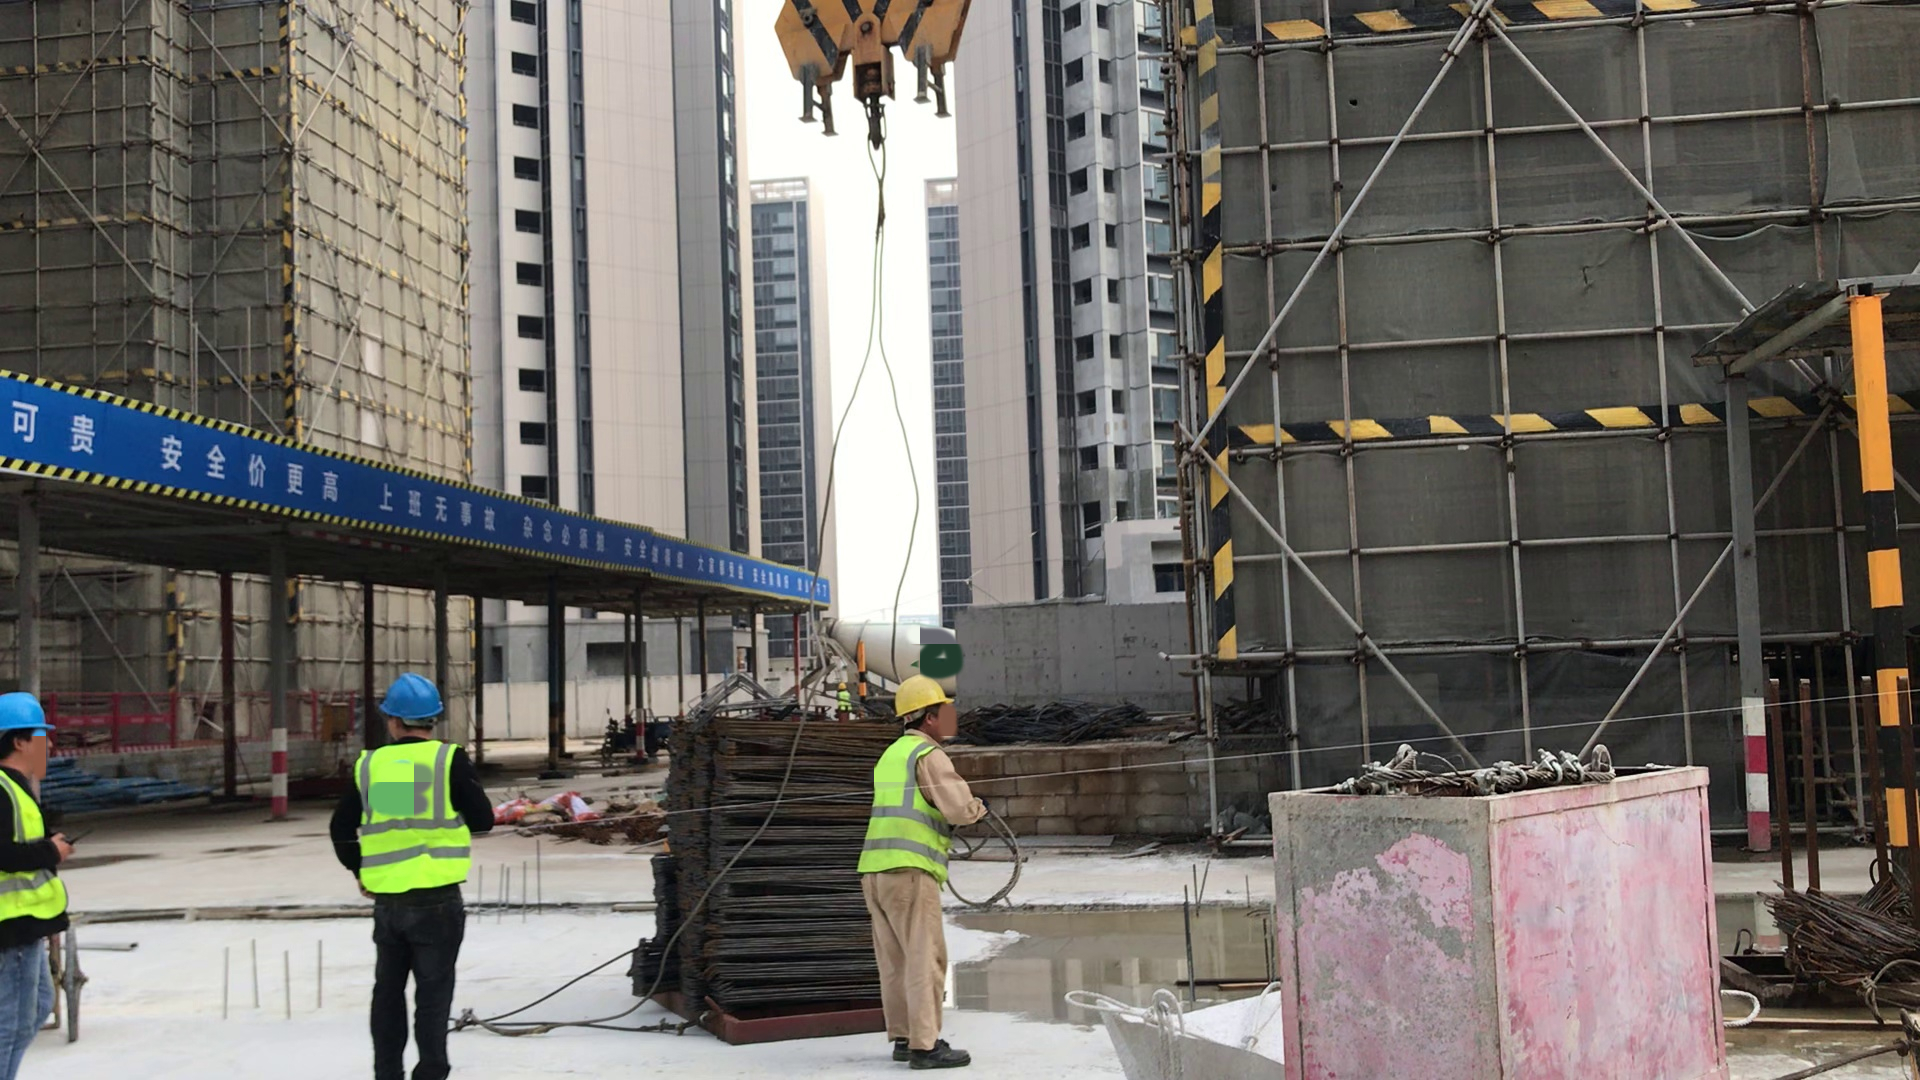ebox: (321, 702, 351, 740)
fence: (40, 672, 355, 758)
helmet: (377, 674, 449, 726), (893, 673, 956, 719), (1, 693, 55, 741), (837, 682, 847, 689)
hook: (763, 1, 979, 166)
hopper: (1067, 961, 1285, 1076)
person: (333, 673, 487, 1080), (858, 673, 993, 1072), (1, 692, 69, 1078), (836, 680, 853, 720)
vest: (356, 746, 473, 892), (865, 729, 952, 884), (1, 777, 65, 932), (837, 691, 852, 712)
